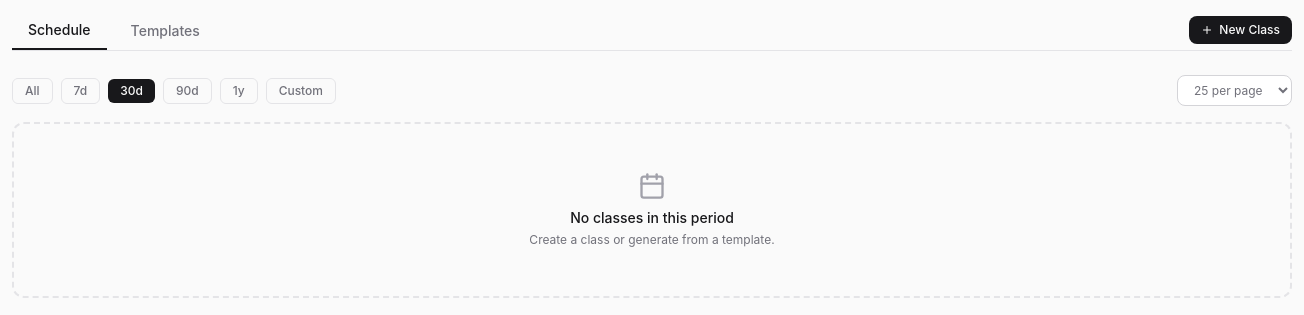
Scenario: ClassesSection › switches to the templates tab and shows its empty state
This screenshot has width=1304, height=315.
Click the button "Templates" at (165, 31), box [115, 12, 216, 50]
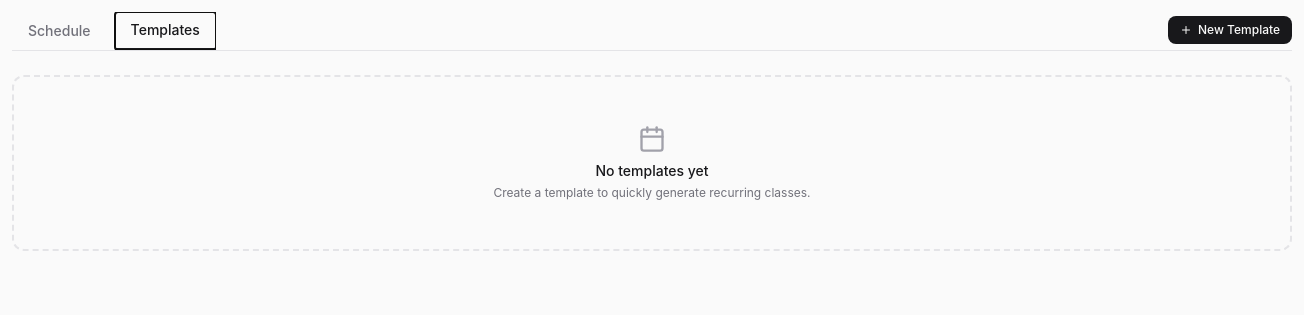
Now the text "No templates yet" is shown, box [596, 162, 709, 179]
